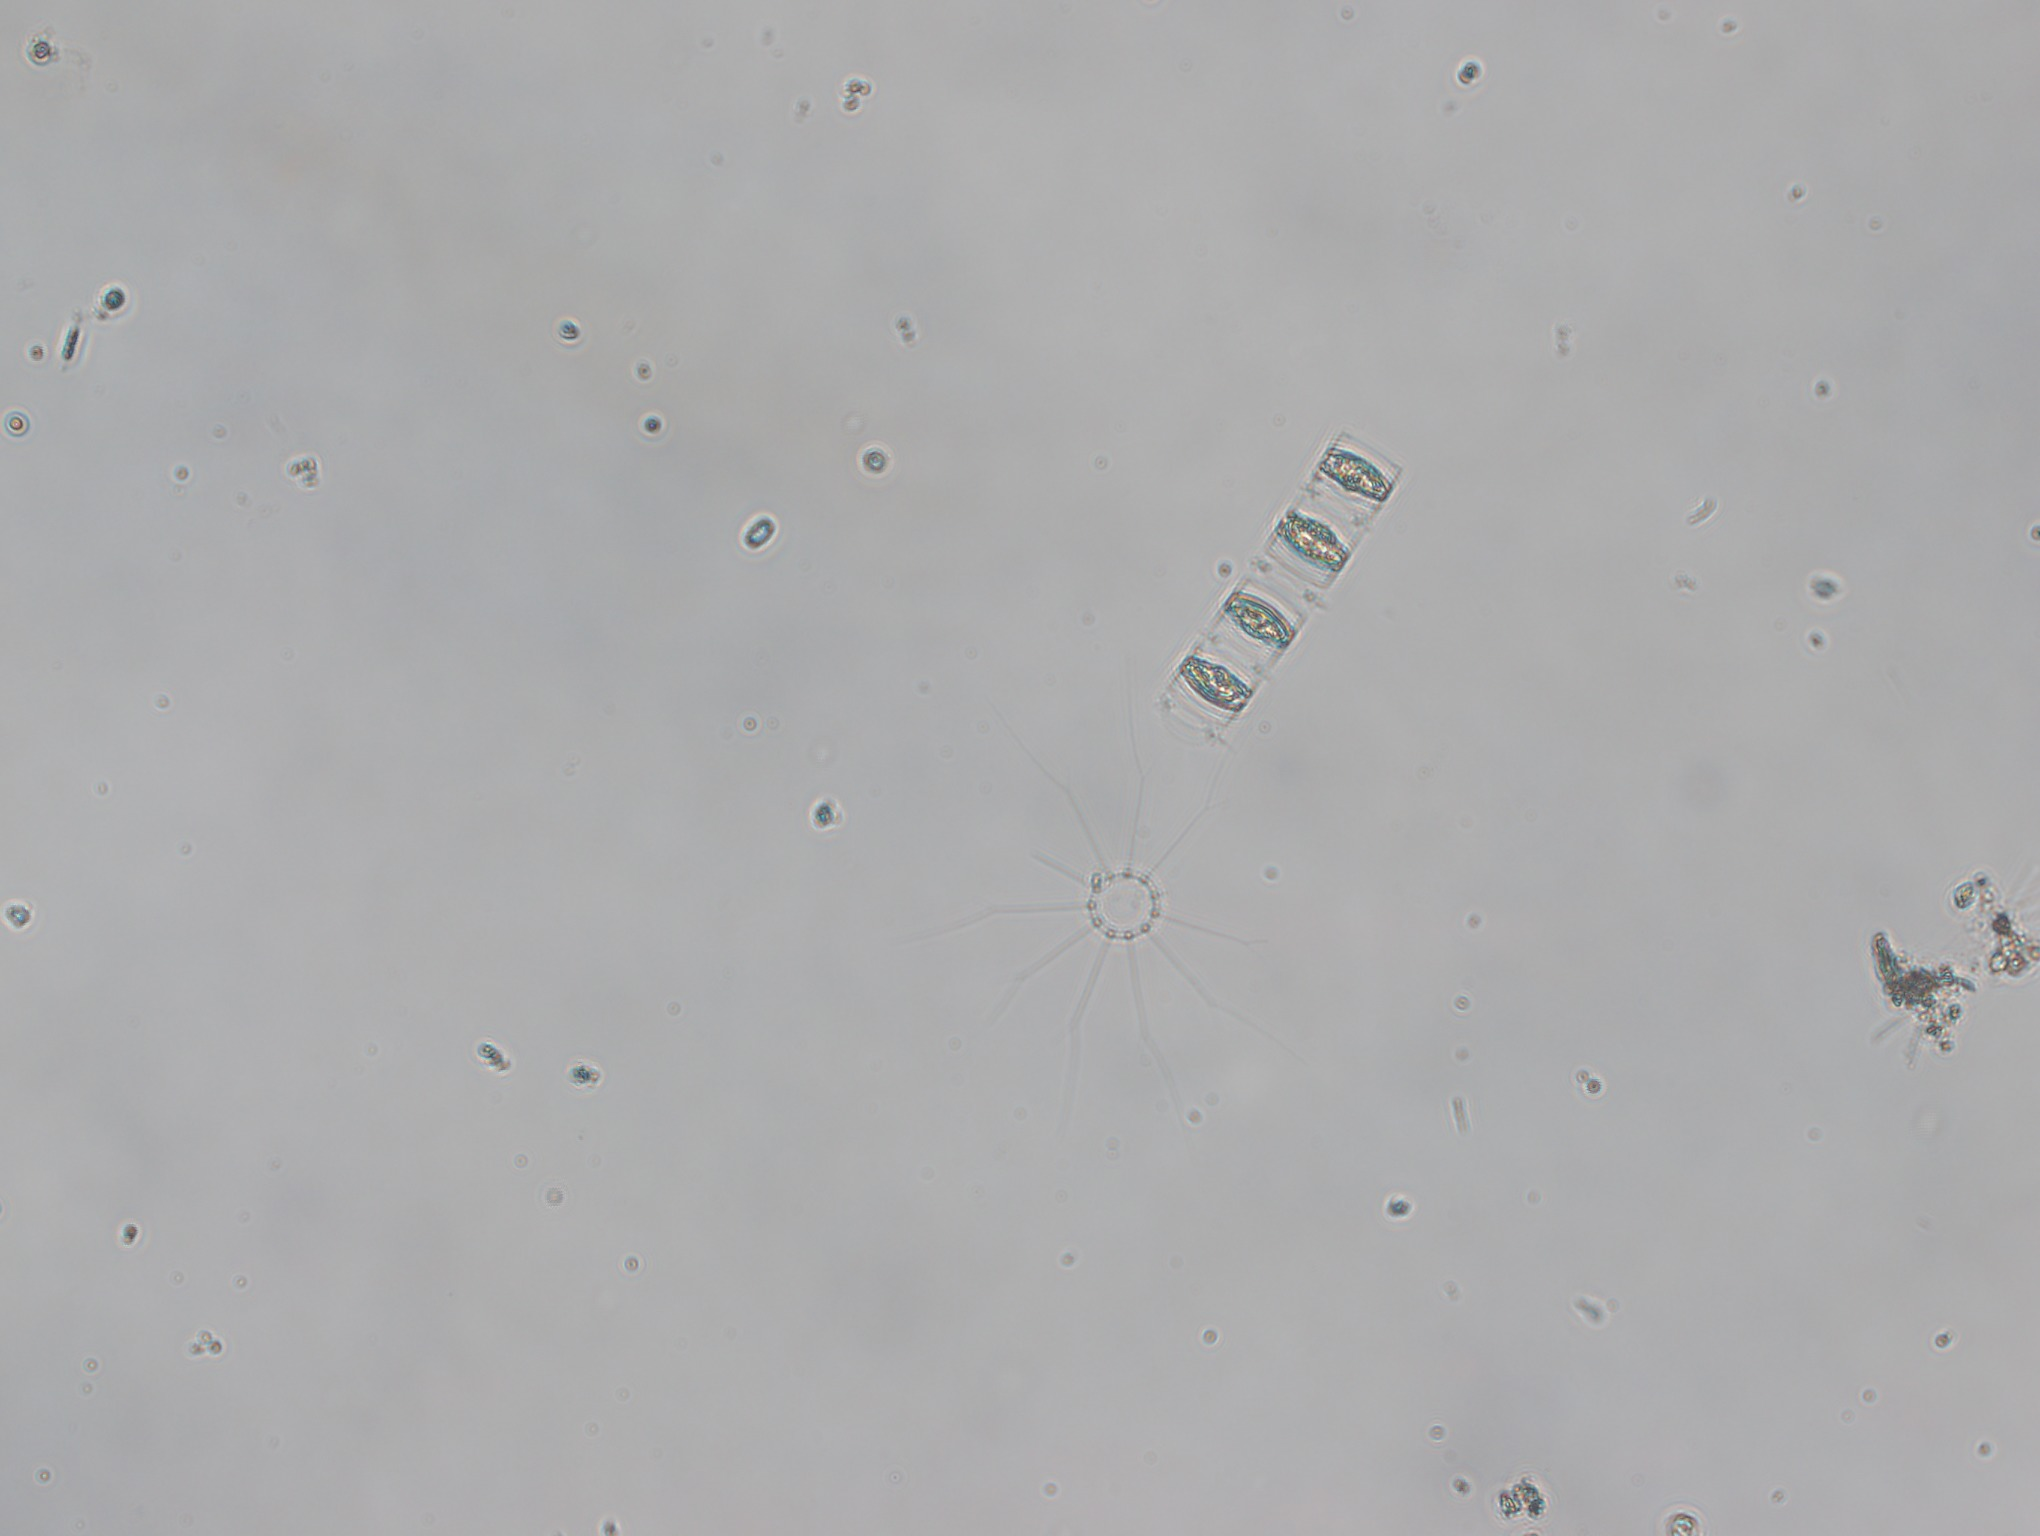bacteriastrum: (927, 721, 1322, 1113)
skeletonema: (1156, 416, 1401, 737)
